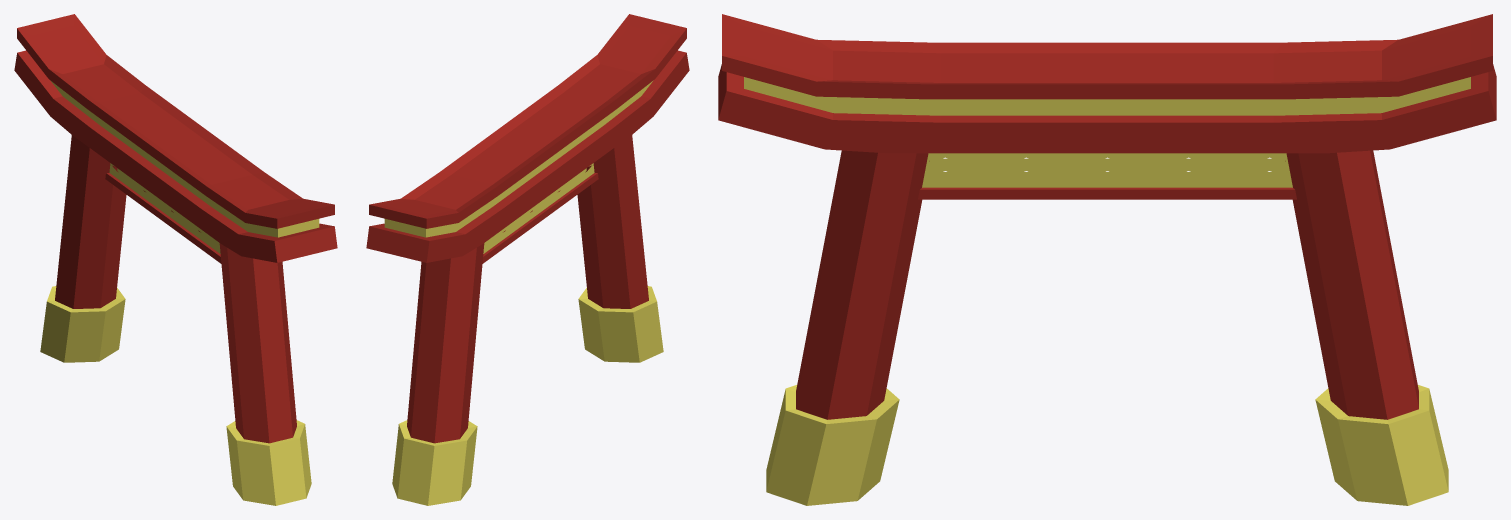
The model's file is monument.glb.
The picture shows the model from 3 angles, left to right: view 1: azimuth 30°, elevation 25°; view 2: azimuth 150°, elevation 25°; view 3: azimuth 270°, elevation 25°; orthographic projection. The views are drawn at different scales.
Visible parts, largest first — view 1: Cube, Cylinder; view 2: Cube, Cylinder; view 3: Cube, Cylinder.
Part boxes in pixels (x1,y1,x2,y2): Cube: (14,14,337,263); Cylinder: (40,135,311,505); Cube: (366,14,689,263); Cylinder: (392,135,663,505); Cube: (718,14,1496,199); Cylinder: (766,150,1448,505).
Bounding box in the file's own units: 1.88 × 7.91 × 12.5.
